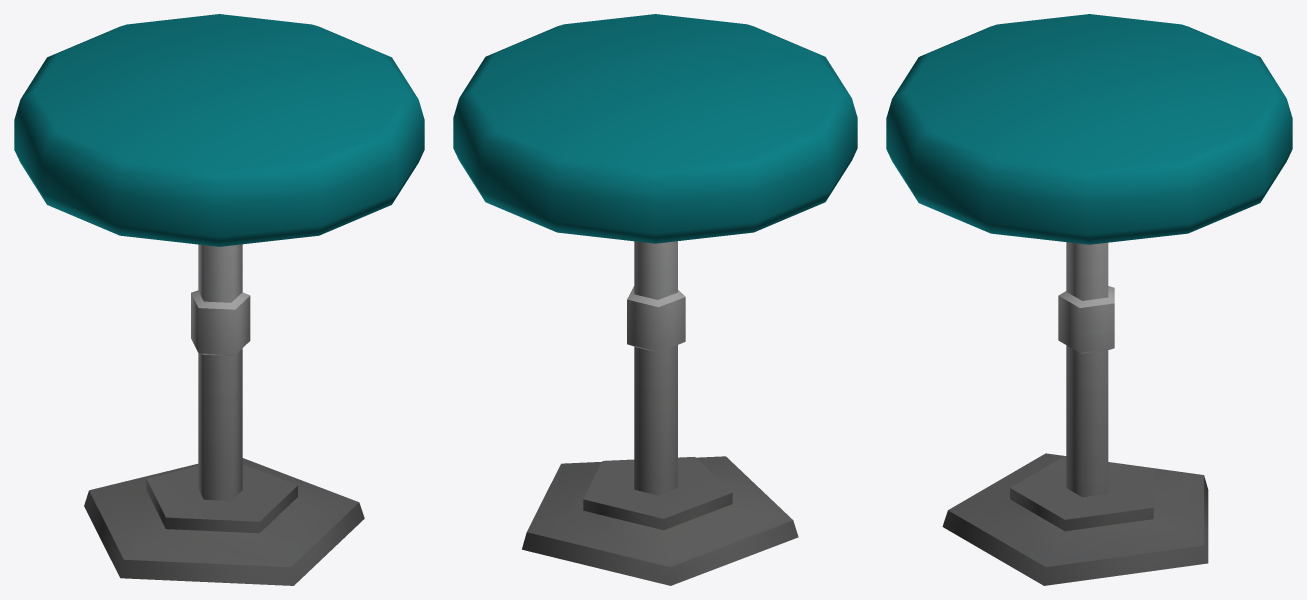
Rendered from Chair_3_F.glb.
3 renders of one model, left to right at view 1: azimuth 30°, elevation 25°; view 2: azimuth 150°, elevation 25°; view 3: azimuth 270°, elevation 25°, orthographic.
Parts seen in each view (by area): view 1: Chair_3_F; view 2: Chair_3_F; view 3: Chair_3_F.
Boxes of the visible parts, x1=… form: Chair_3_F: x1=14, y1=14, x2=424, y2=585; Chair_3_F: x1=453, y1=14, x2=857, y2=585; Chair_3_F: x1=886, y1=14, x2=1292, y2=585.
Size of the model in its own units: 0.5002 by 0.591 by 0.5004.
2 materials, 2 textured.
